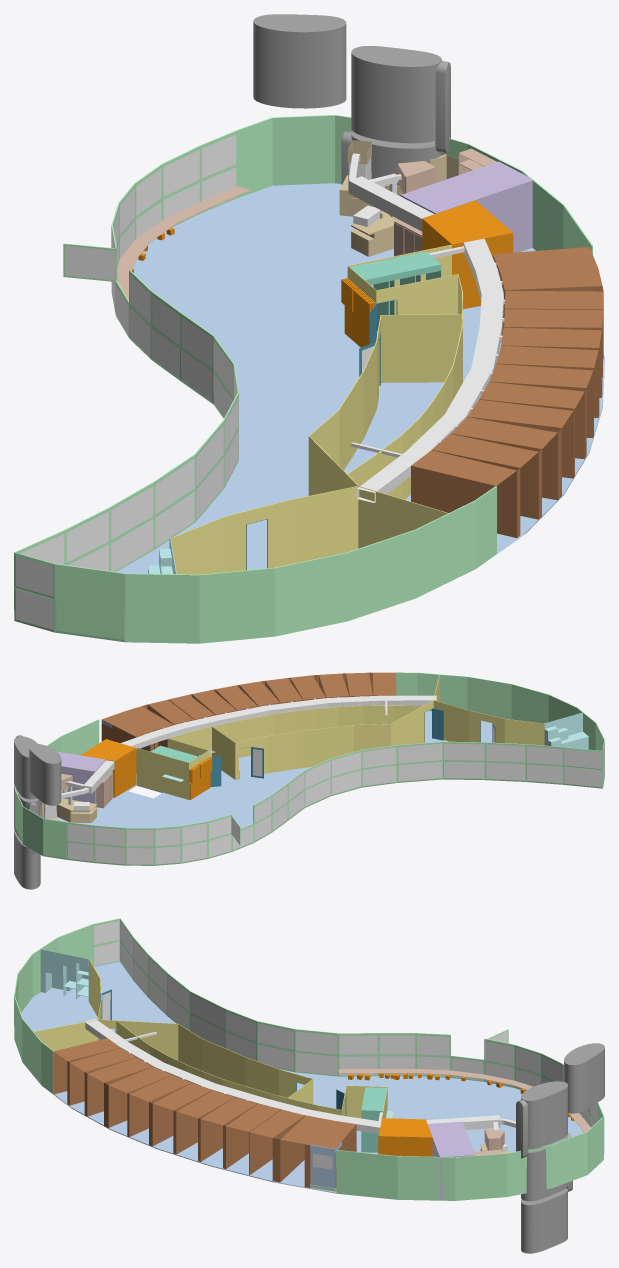
Rendered from Shared-Facilities-1.glb.
3 views of the same model, one above another, from view 1: azimuth 30°, elevation 25°; view 2: azimuth 150°, elevation 25°; view 3: azimuth 270°, elevation 25° (orthographic). The views are drawn at different scales.
Visible parts, largest first — view 1: Walls, Showers, Internal-Walls, GrayWater, Vents, DrinkingWater, Kitchen-funtiture, Fridge-and-Cold-Room, Utility-Room, Bathroom-Stalls, Dining-Bar, Folding-Tables (+1 smaller); view 2: Walls, Internal-Walls, Showers, Vents, GrayWater, DrinkingWater, Utility-Room, Stairs-Main, Kitchen-funtiture, Fridge-and-Cold-Room, Folding-Tables, Cabinets (+4 smaller); view 3: Walls, Showers, Internal-Walls, GrayWater, Vents, DrinkingWater, Utility-Room, Stairs-Main, Fridge-and-Cold-Room, Dining-Bar, Shower-Cubicle, Bathroom-Stalls (+2 smaller).
Boxes of the visible parts, x1,y1,x2,y2 form: Walls: (14, 115, 604, 643); Showers: (411, 247, 603, 537); Internal-Walls: (169, 244, 462, 574); GrayWater: (341, 46, 450, 185); Vents: (348, 153, 504, 502); DrinkingWater: (253, 14, 346, 108); Kitchen-funtiture: (339, 140, 496, 256); Fridge-and-Cold-Room: (400, 161, 532, 252); Utility-Room: (422, 200, 513, 309); Bathroom-Stalls: (350, 251, 441, 342); Dining-Bar: (117, 186, 250, 299); Folding-Tables: (341, 278, 375, 347); Walls: (15, 672, 604, 865); Internal-Walls: (136, 675, 544, 799); Showers: (101, 672, 396, 773); Vents: (61, 695, 436, 804); GrayWater: (14, 735, 40, 889); DrinkingWater: (29, 744, 61, 805); Utility-Room: (80, 739, 136, 797); Stairs-Main: (544, 712, 588, 749); Kitchen-funtiture: (40, 773, 96, 822); Fridge-and-Cold-Room: (57, 751, 105, 807); Folding-Tables: (189, 757, 212, 799); Cabinets: (96, 771, 113, 808); Walls: (14, 918, 604, 1200); Showers: (54, 1038, 356, 1191); Internal-Walls: (34, 959, 393, 1119); GrayWater: (516, 1081, 572, 1253); Vents: (84, 1018, 515, 1133); DrinkingWater: (564, 1043, 604, 1113); Utility-Room: (378, 1118, 432, 1156); Stairs-Main: (40, 949, 101, 1001); Fridge-and-Cold-Room: (427, 1121, 475, 1199); Dining-Bar: (338, 1069, 590, 1132); Shower-Cubicle: (310, 1142, 341, 1191); Bathroom-Stalls: (361, 1087, 386, 1152).
Size of what is drawn, in the model's own units: 31.79 by 10.5 by 33.19.
